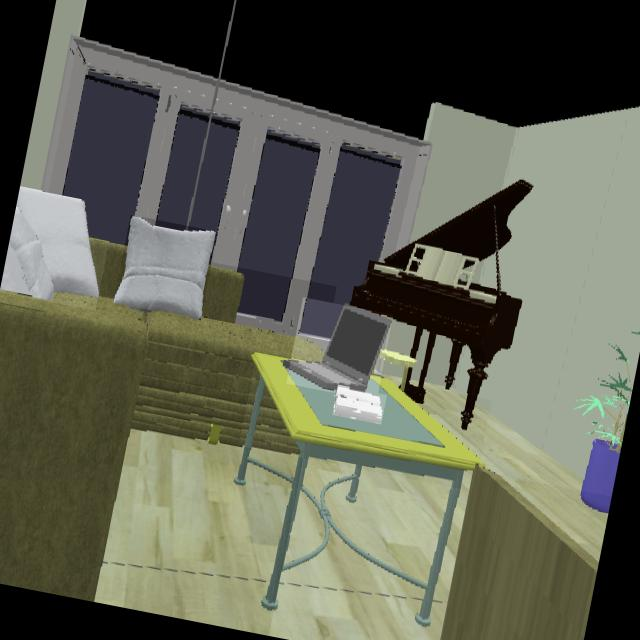book: (333, 386, 381, 424)
laptop: (289, 307, 392, 393)
pillow: (0, 187, 98, 302), (113, 218, 217, 321)
sofa: (0, 239, 323, 602), (442, 472, 596, 640)
table: (255, 359, 478, 479)
